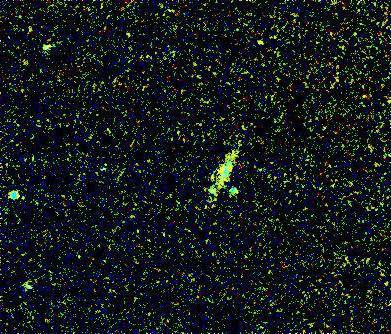star: (248, 28, 278, 58)
